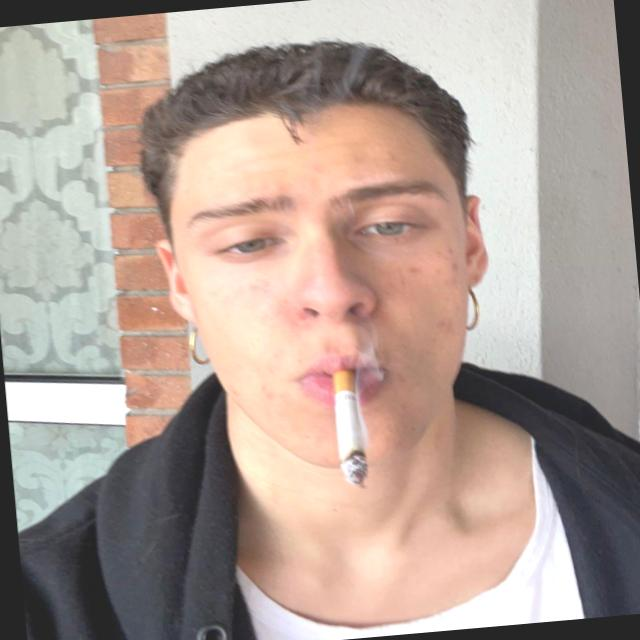cigarette: (289, 359, 391, 505)
